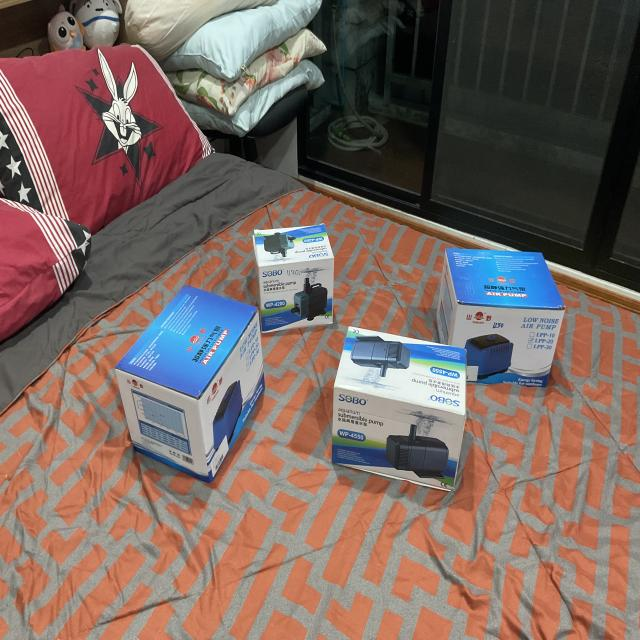SOBO_WP_4200: (323, 313, 474, 510), (242, 198, 347, 342)
YAMANO_LPP_20: (109, 275, 272, 491), (432, 230, 571, 390)
